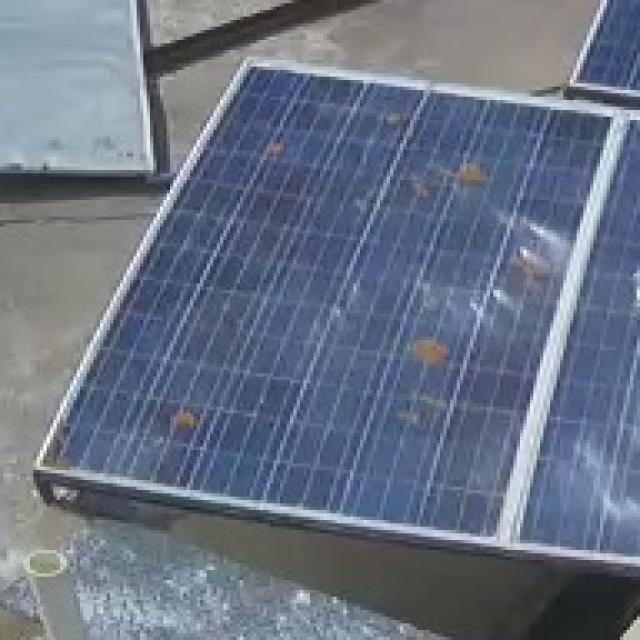Bird-drop: (458, 279, 519, 327), (504, 216, 557, 259), (329, 282, 383, 324)
Dusty: (392, 340, 472, 371), (399, 162, 486, 190), (164, 409, 202, 434), (261, 135, 291, 160), (520, 259, 528, 281)
